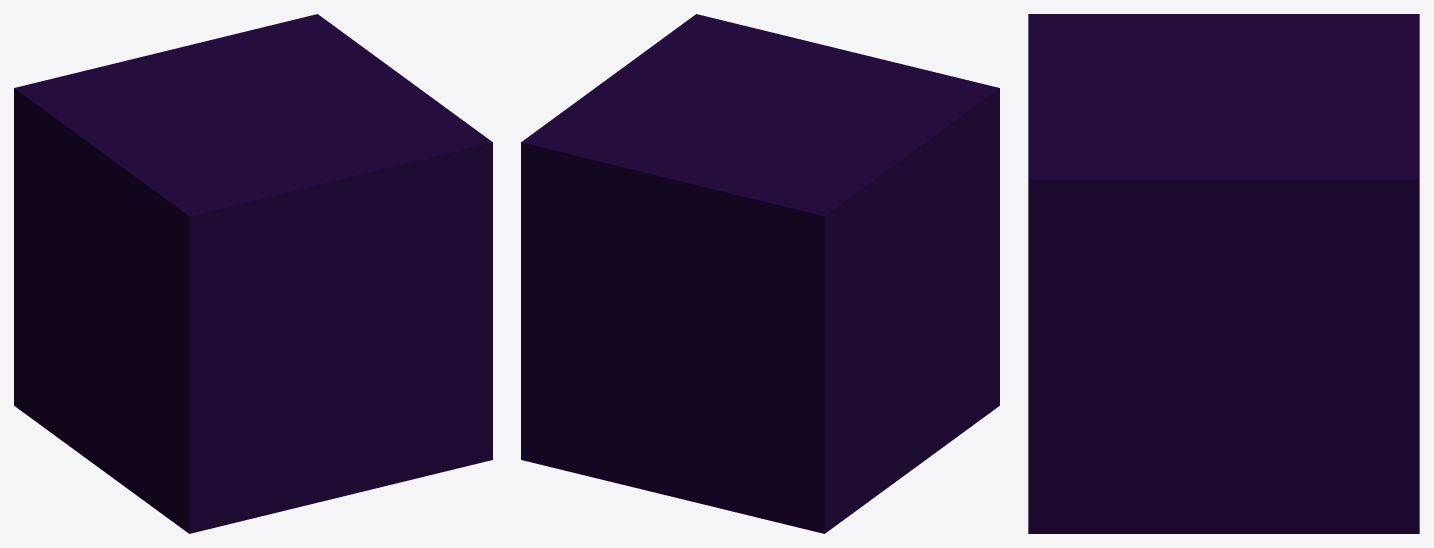
File: dice6.glb
3 views of the same model, side by side, from view 1: azimuth 30°, elevation 25°; view 2: azimuth 150°, elevation 25°; view 3: azimuth 270°, elevation 25° (orthographic). The views are drawn at different scales.
Visible parts, largest first — view 1: dice6; view 2: dice6; view 3: dice6.
Boxes of the visible parts, x1,y1,x2,y2 form: dice6: (14, 14, 492, 533); dice6: (521, 14, 999, 533); dice6: (1028, 14, 1419, 533).
Size of the model in its own units: 2 by 2 by 2.
